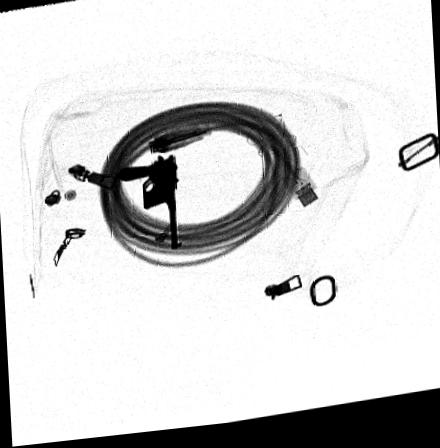Gun: (116, 157, 186, 254)
